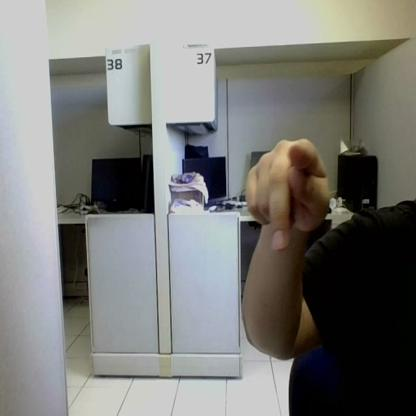P: (246, 138, 329, 251)
